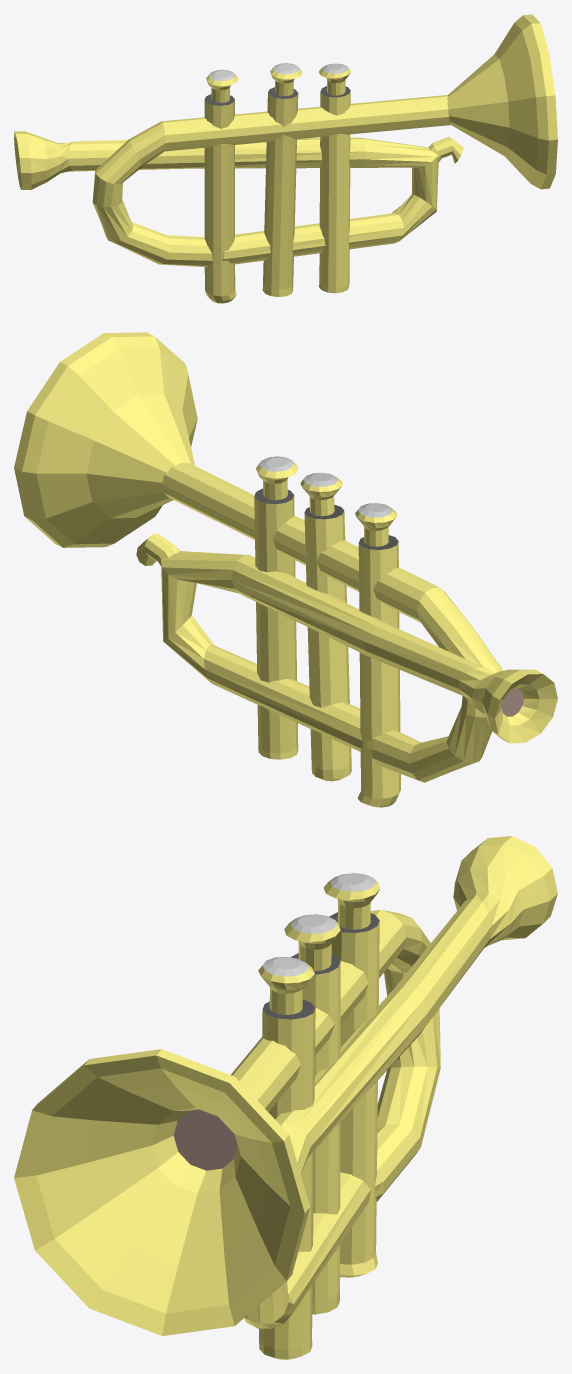
Rendered from instruments-cornet-54cb30d78b.glb.
The picture shows the model from 3 angles, top to bottom: view 1: azimuth 30°, elevation 25°; view 2: azimuth 150°, elevation 25°; view 3: azimuth 270°, elevation 25°; orthographic projection. The views are drawn at different scales.
Visible parts, largest first — view 1: group988428046, group1343649176, group2102999266, group10026934; view 2: group988428046, group2102999266, group10026934, group1343649176; view 3: group988428046, group2102999266, group10026934, group1343649176.
Boxes of the visible parts, left/top/right/bottom form: group988428046: left=14, top=14, right=557, bottom=266; group1343649176: left=262, top=63, right=302, bottom=296; group2102999266: left=204, top=69, right=238, bottom=303; group10026934: left=319, top=63, right=350, bottom=293; group988428046: left=14, top=332, right=557, bottom=782; group2102999266: left=355, top=503, right=400, bottom=807; group10026934: left=254, top=456, right=298, bottom=759; group1343649176: left=300, top=472, right=351, bottom=781; group988428046: left=14, top=836, right=557, bottom=1335; group2102999266: left=323, top=873, right=379, bottom=1277; group10026934: left=258, top=956, right=315, bottom=1359; group1343649176: left=284, top=914, right=340, bottom=1314.
Bounding box in the file's own units: 2.26 × 1.19 × 1.32.
